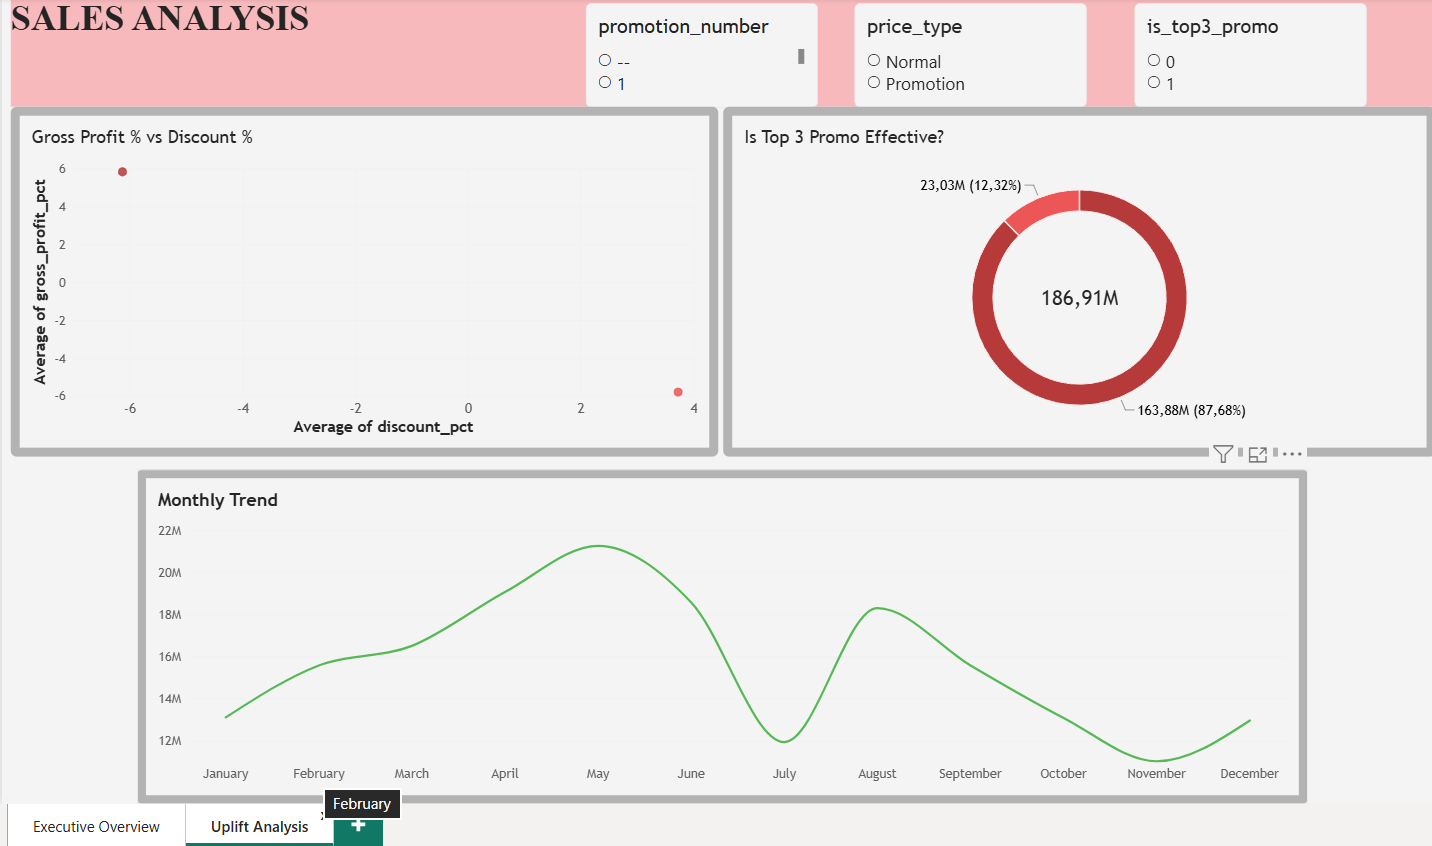

This screenshot's page, from the dashboard's own definition file:
{"tool":"powerbi","page":{"name":"Uplift Analysis","canvas":[1920,1080],"ordinal":1},"visuals":[{"type":"textbox","box":[11,0,1909.4,145.9],"z":0},{"type":"listSlicer","fields":{"Values":["Table1 (2).promotion_number"]},"box":[782.2,6.2,310.8,140],"z":1000},{"type":"listSlicer","fields":{"Values":["Table1 (2).price_type"]},"box":[1142.4,6.2,310.8,140],"z":2000},{"type":"listSlicer","fields":{"Values":["Table1 (2).is_top3_promo"]},"box":[1517,6.2,310.8,140],"z":3000},{"type":"scatterChart","title":"Gross Profit % vs Discount %","fields":{"Y":["Avg(Table1 (2).gross_profit_pct)"],"Series":["Table1 (2).is_loss_making"],"X":["Avg(Table1 (2).discount_pct)"]},"box":[11,145.9,948.1,468.5],"z":4000},{"type":"donutChart","title":"Is Top 3 Promo Effective?","fields":{"Category":["Table1 (2).is_top3_promo"],"Y":["Sum(Table1 (2).sales)"]},"box":[965.7,145.9,954.7,468.5],"z":5000},{"type":"lineChart","title":"Monthly Trend","fields":{"Category":["Table1 (2).sale_date.Variation.Date Hierarchy.Month"],"Y":["Sum(Table1 (2).sales)"]},"box":[181.2,632,1569.1,448.6],"z":6000}]}

Visuals, with their boxes in screenshot pixels (x1, y1, x2, y2):
textbox: Rect(16, 0, 1420, 107)
listSlicer - Table1 (2).promotion_number: Rect(583, 5, 811, 108)
listSlicer - Table1 (2).price_type: Rect(848, 5, 1076, 108)
listSlicer - Table1 (2).is_top3_promo: Rect(1123, 5, 1352, 108)
"Gross Profit % vs Discount %" scatterChart: Rect(16, 107, 713, 452)
"Is Top 3 Promo Effective?" donutChart: Rect(718, 107, 1420, 452)
"Monthly Trend" lineChart: Rect(141, 465, 1295, 795)
